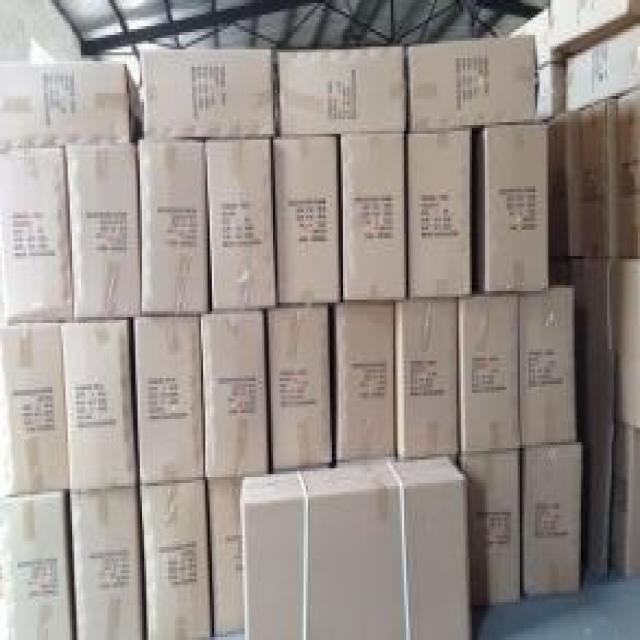Carton: (271, 38, 533, 457), (459, 122, 574, 451), (242, 477, 470, 637), (142, 49, 273, 311), (0, 320, 135, 492), (133, 311, 266, 474), (0, 148, 74, 320), (66, 148, 138, 317), (135, 143, 205, 305), (70, 483, 140, 637), (142, 483, 212, 631), (269, 308, 332, 471), (2, 495, 70, 634), (522, 442, 583, 591)
